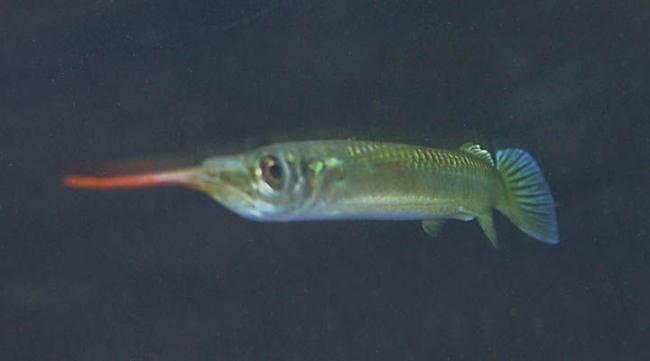fish: (61, 138, 561, 247)
